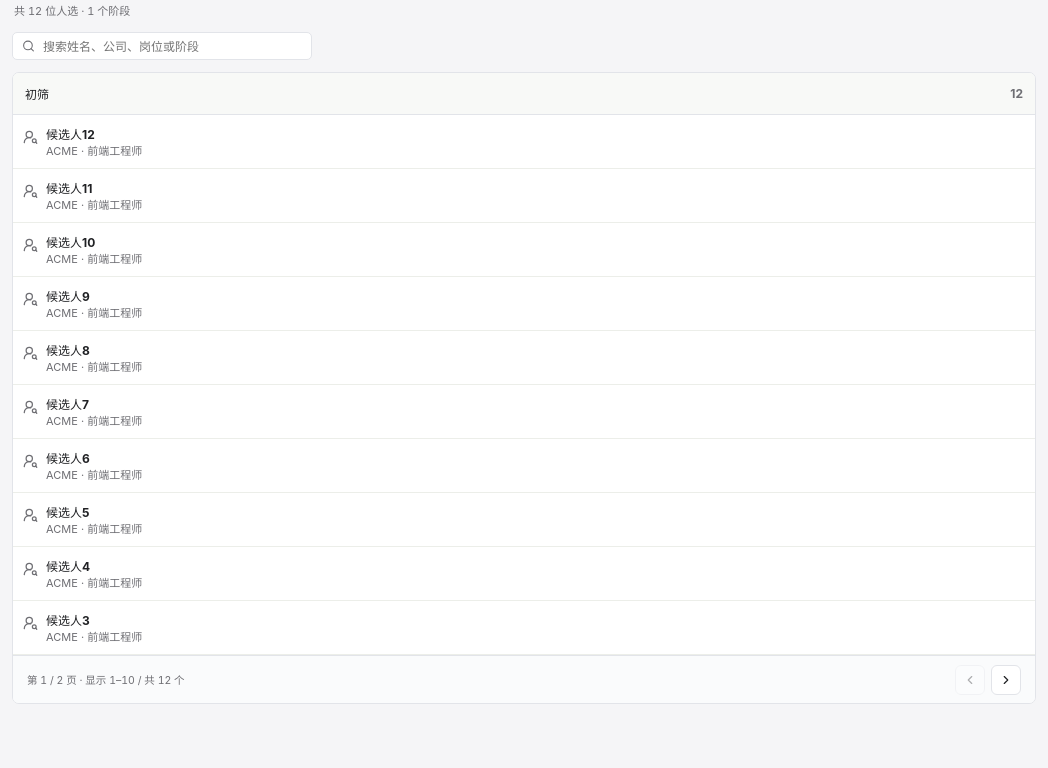
it: 人选进度 Progress › 单阶段超过一页时分批显示，组内按更新时间新→旧稳定排序
Check: the button "候选人12 ACME · 前端工程师" is shown, box [13,115,1035,169]
Check: the text "第 1 / 2 页 · 显示 1–10 / 共 12 个" is shown, box [27,672,185,687]
Click the button named "下一页" at (1006, 680), box [991,664,1021,694]
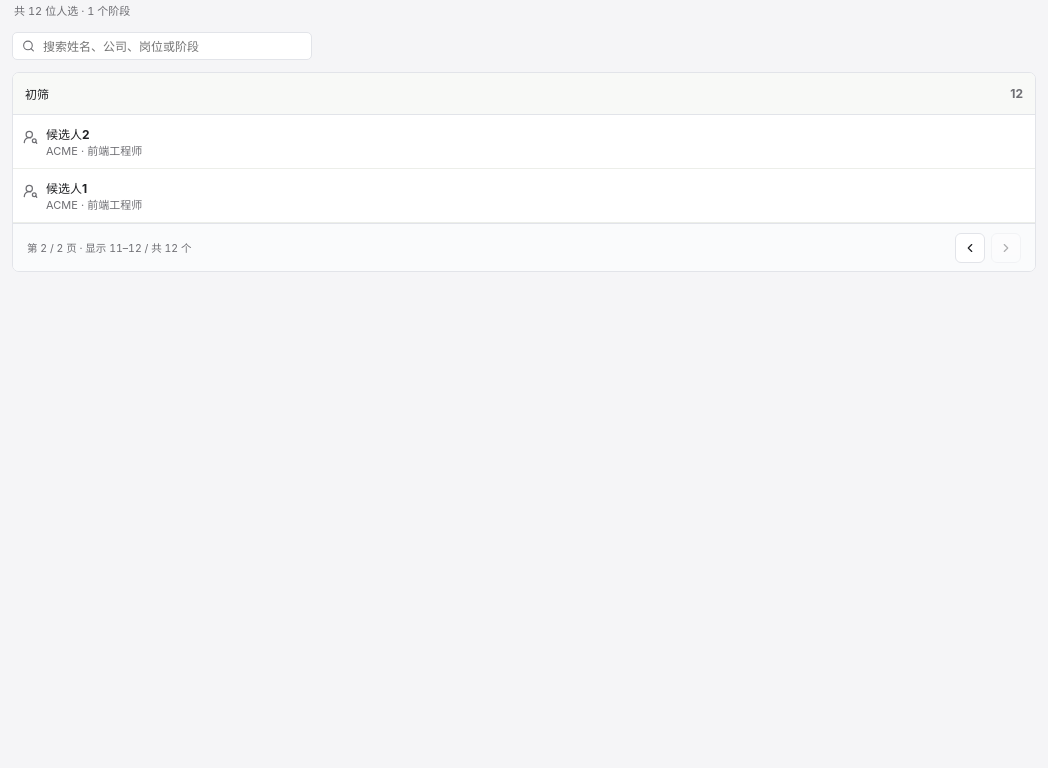
Check: the number of buttons "候选人2 ACME · 前端工程师" is 2, box [13,115,1035,169]; [13,169,1035,223]
Check: the text "候选人2" is shown, box [46,127,90,142]
Check: the text "第 2 / 2 页 · 显示 11–12 / 共 12 个" is shown, box [27,240,191,255]
